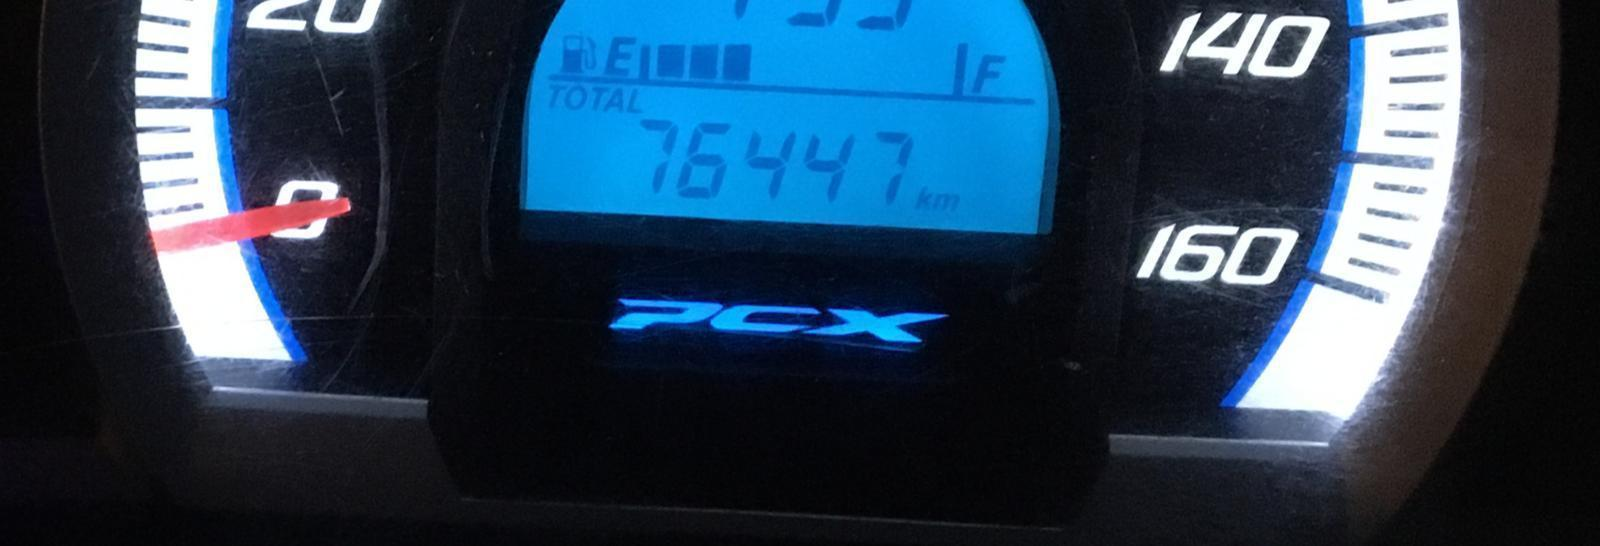4: (744, 123, 799, 199), (805, 123, 856, 204)
6: (677, 113, 732, 202)
7: (639, 114, 682, 201), (870, 123, 915, 206)
X: (599, 26, 641, 78), (971, 47, 1005, 95), (589, 79, 609, 110), (544, 81, 566, 107), (565, 82, 586, 110), (935, 189, 960, 211), (627, 86, 646, 112), (608, 86, 626, 113), (916, 186, 934, 211)
odometer: (499, 0, 1062, 234)
